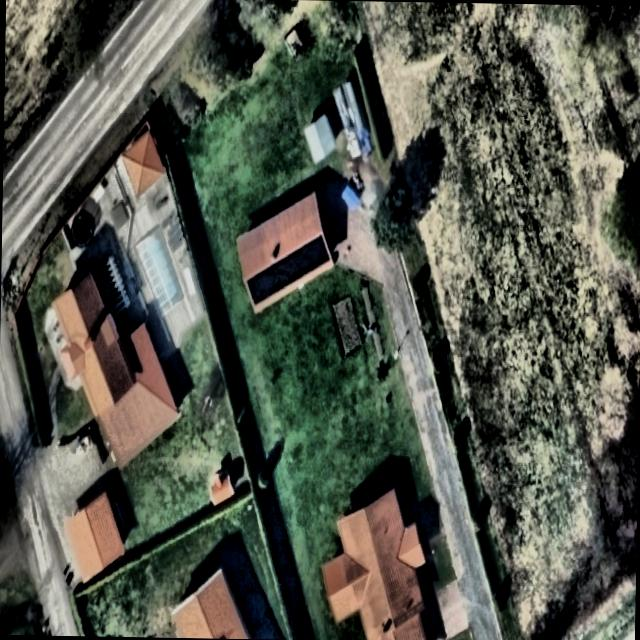roof_pv: (246, 262, 281, 308), (281, 240, 313, 290), (310, 233, 332, 274)
